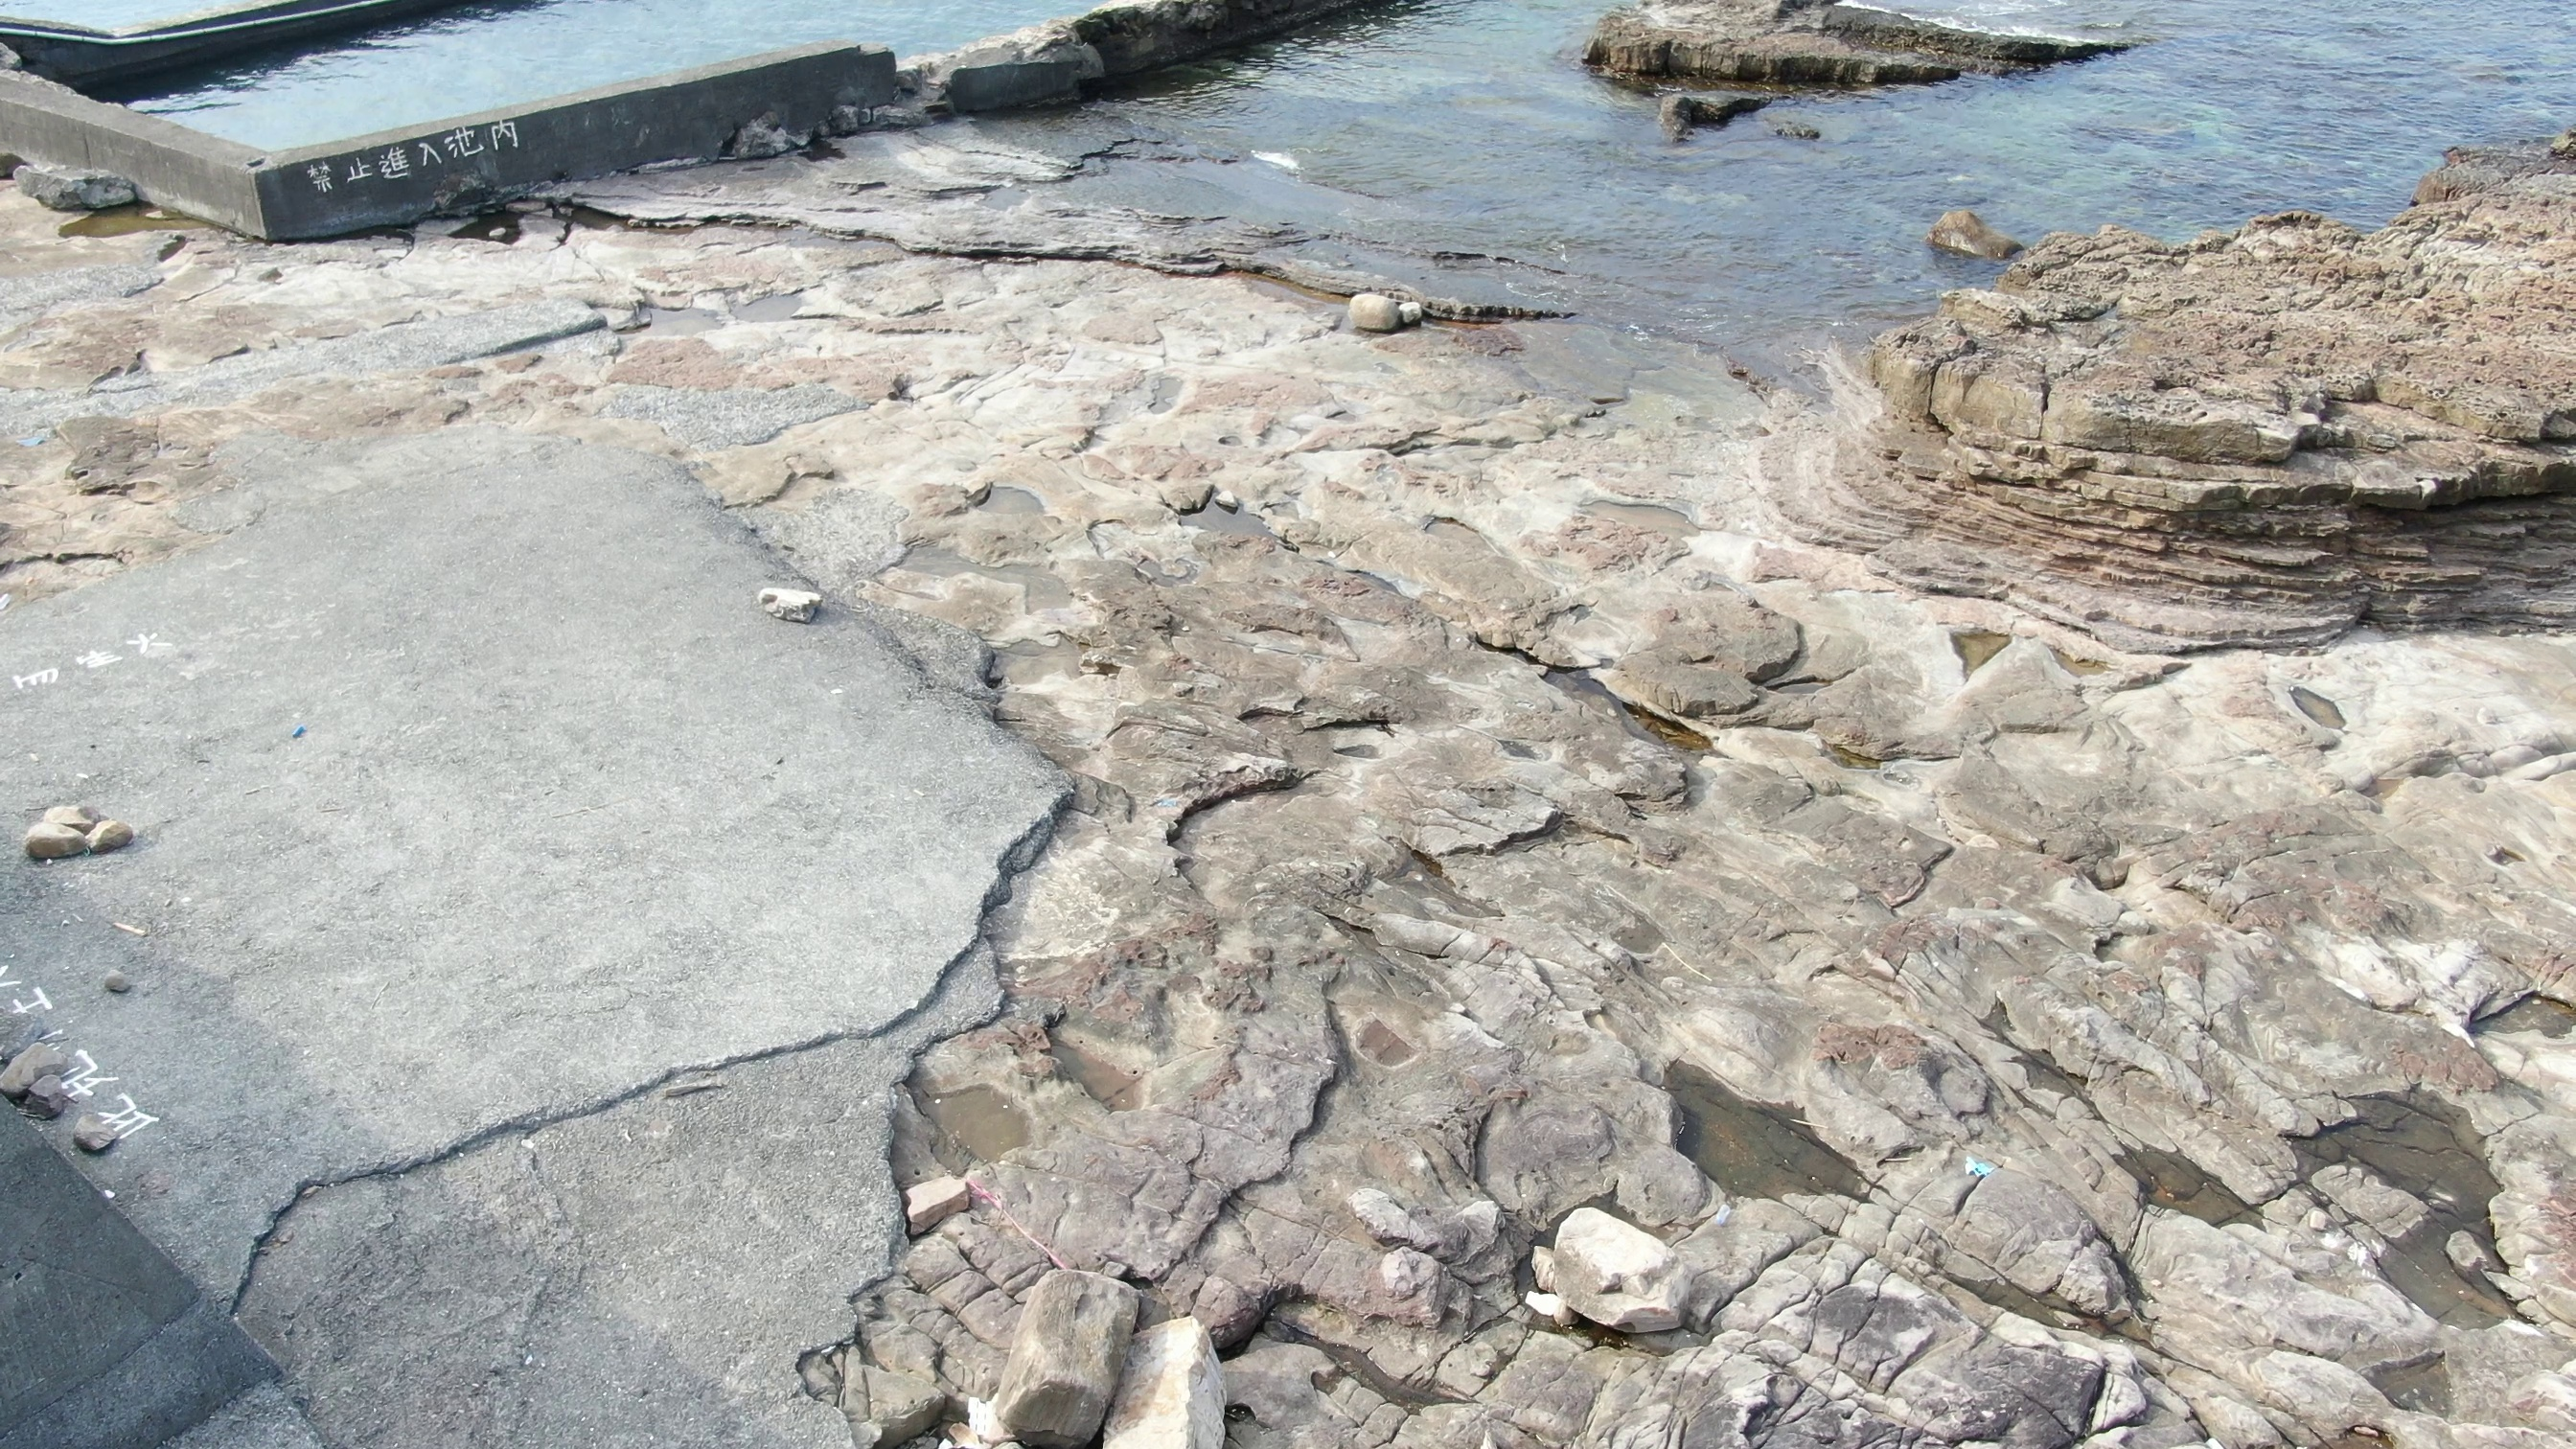garbage: (285, 718, 317, 750)
